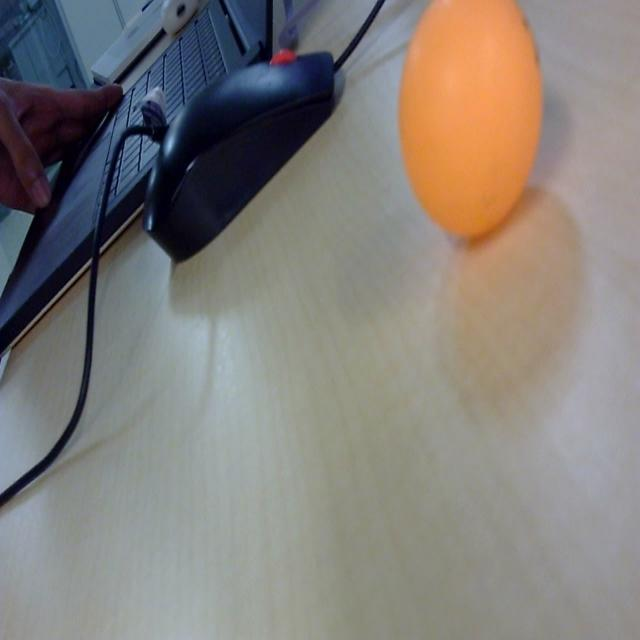ball: (397, 0, 544, 243)
